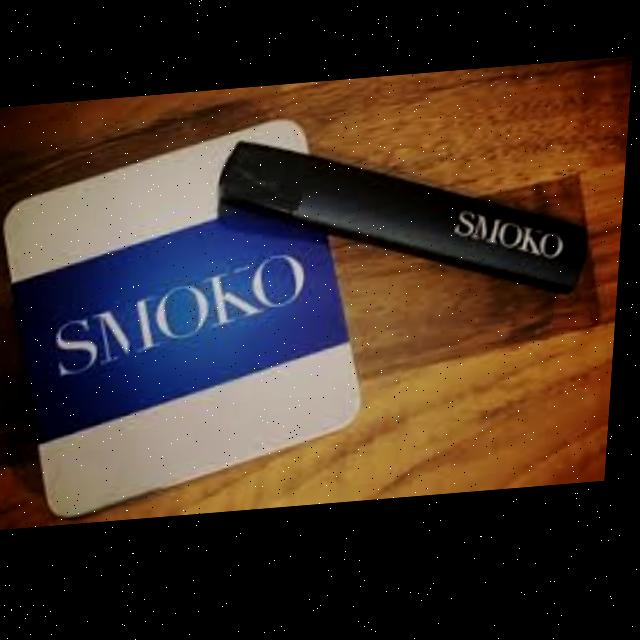vape: (215, 117, 601, 327)
